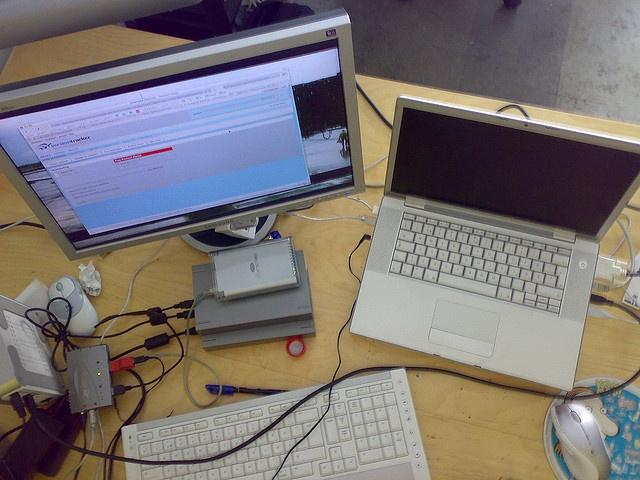AIO PC-Monitor-TV: (0, 8, 366, 262)
